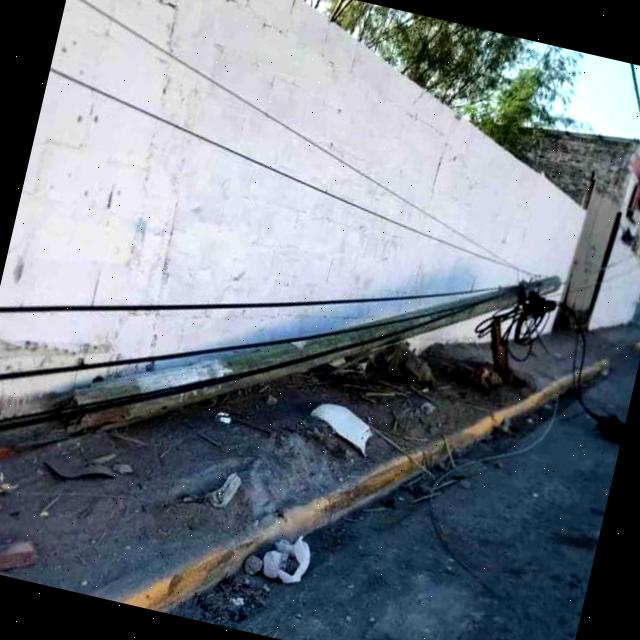Broken Pole: (60, 272, 568, 437)
